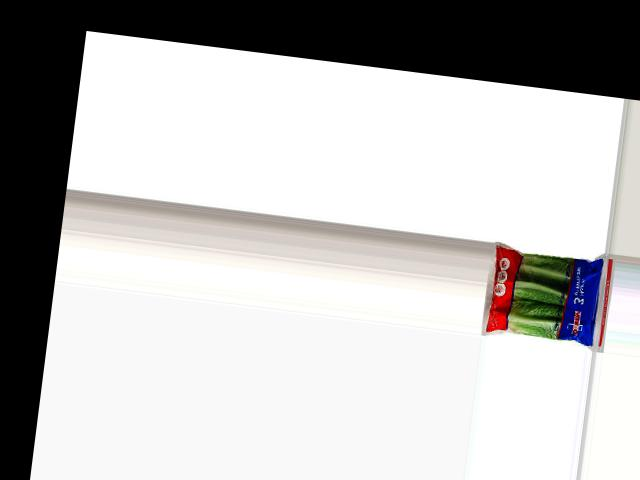lettuce: (480, 243, 606, 347)
